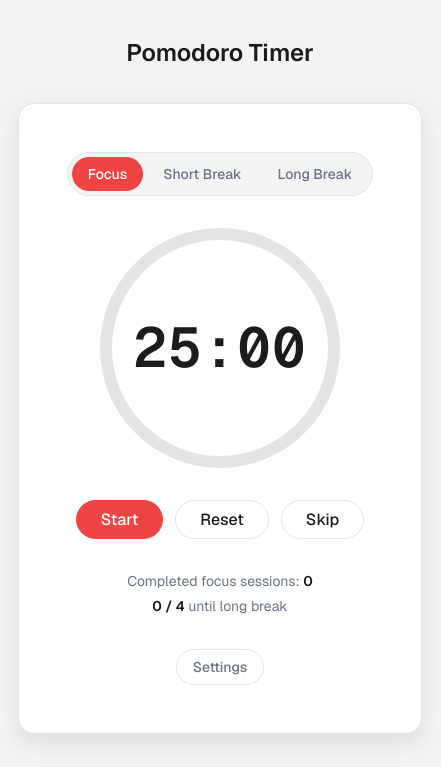
SettingsPanel — settings & persistence › rejects an out-of-range / empty duration input without writing NaN to localStorage
Click the button "Settings" at (220, 666), box x1=176 y1=648 x2=264 y2=684
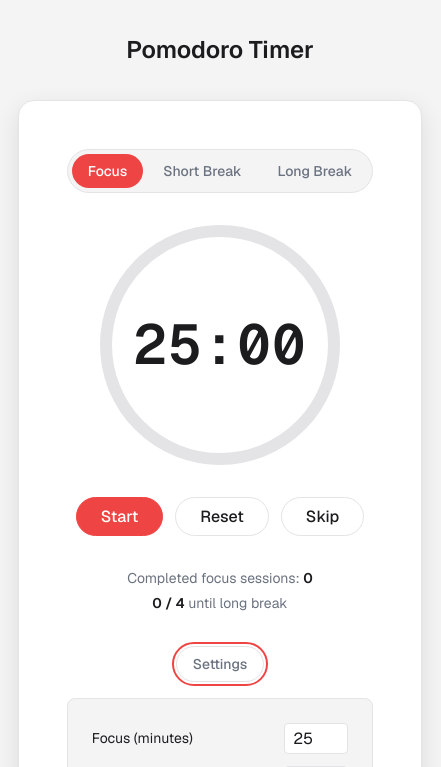
Clear the number field labelled "Focus (minutes)" at (316, 738), box x1=284 y1=723 x2=348 y2=754
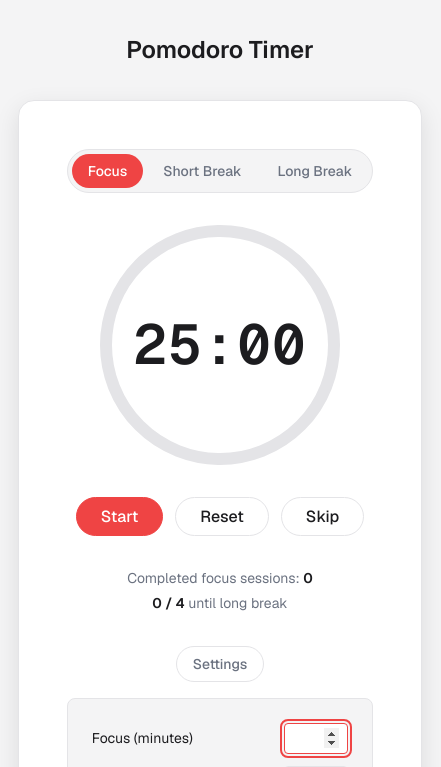
expect the text "25:00" is shown: met, box x1=133 y1=317 x2=307 y2=373
Press Tab
(page scrolled)
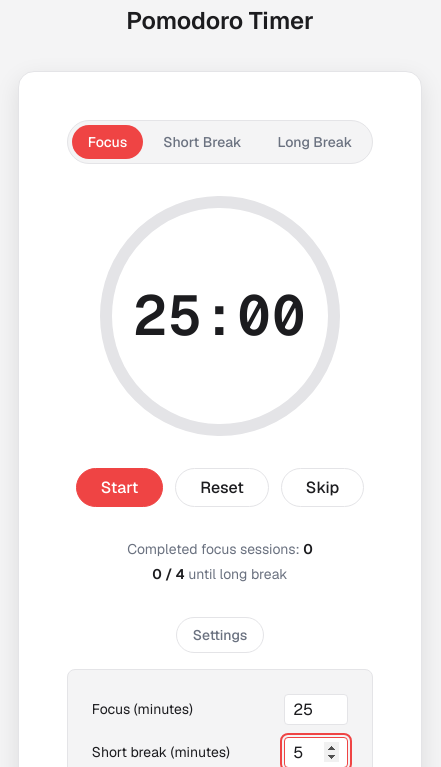
expect the number field labelled "Focus (minutes)" holds "25": met
Replace the text in the number field labelled "Focus (minutes)" with "500" at (316, 710), box x1=284 y1=694 x2=348 y2=725
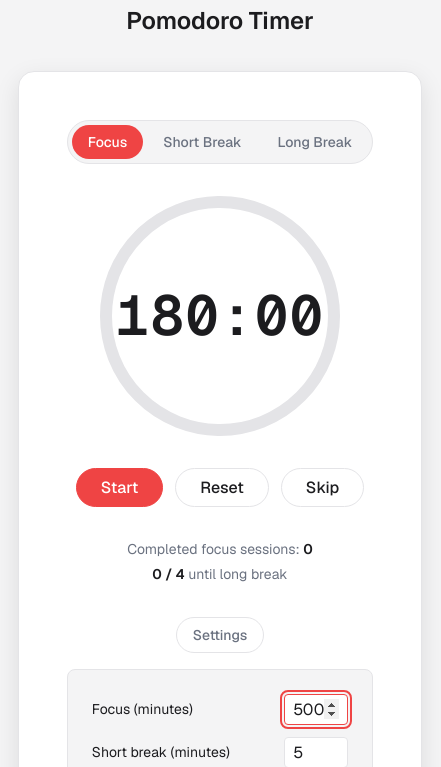
Press Tab
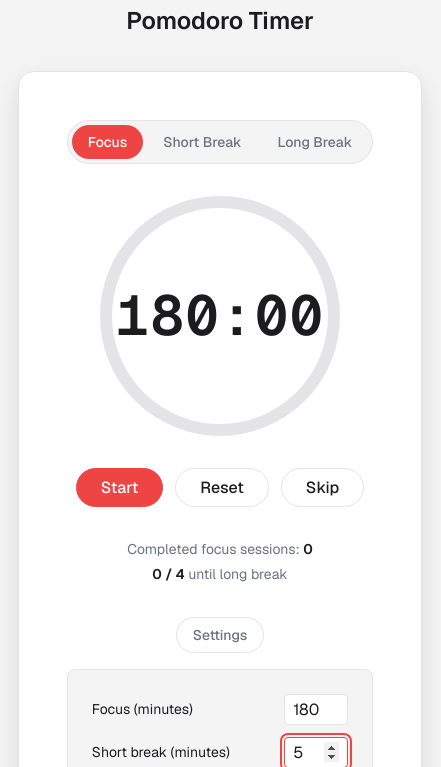
expect the number field labelled "Focus (minutes)" holds "180": met, box x1=284 y1=694 x2=348 y2=725
